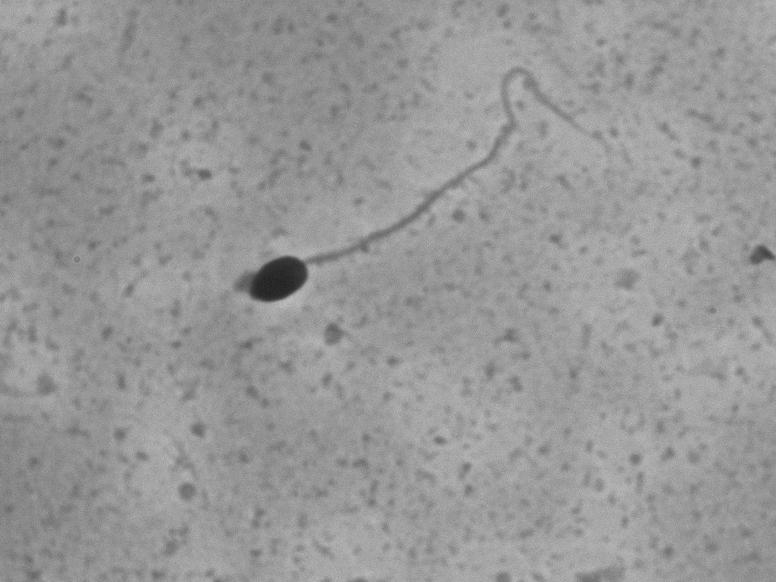Abnormal: (230, 56, 616, 317)
